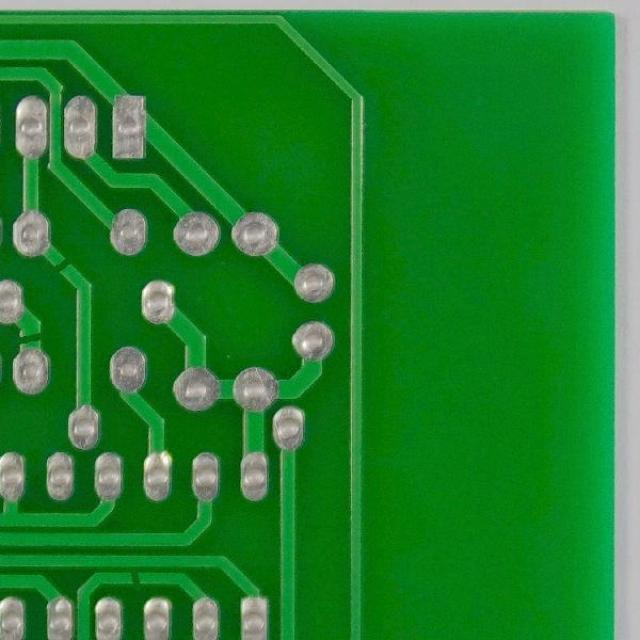open_circuit: (12, 328, 47, 348), (47, 254, 77, 277), (123, 570, 144, 591)
